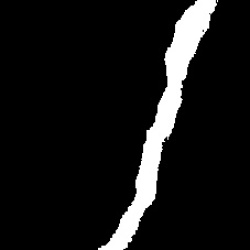crack: (103, 3, 218, 248)
